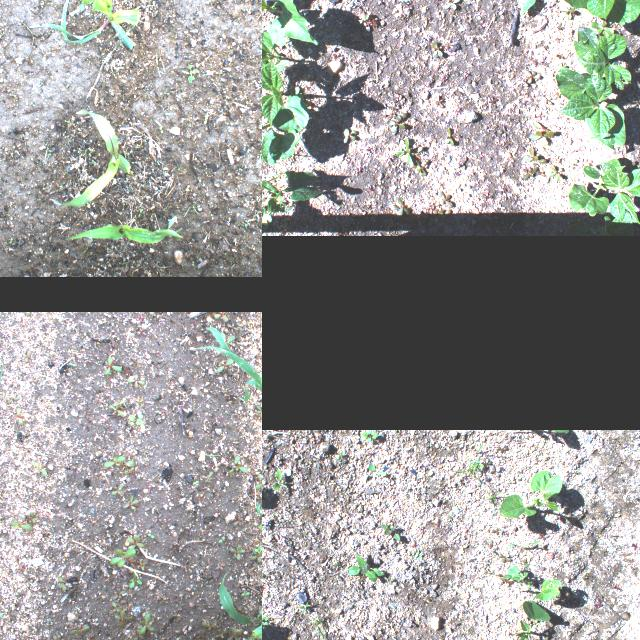crop: (193, 326, 262, 488), (51, 109, 131, 208), (557, 68, 627, 150), (29, 0, 139, 50), (569, 158, 640, 223), (65, 214, 182, 246), (262, 170, 322, 230), (572, 28, 630, 88), (262, 92, 309, 166), (218, 572, 262, 640), (500, 470, 562, 518), (262, 0, 316, 45), (550, 0, 640, 24), (505, 600, 551, 640), (262, 60, 284, 124), (262, 31, 276, 95), (601, 213, 633, 235), (553, 429, 569, 433)
weed: (503, 566, 561, 600), (452, 457, 488, 485), (348, 555, 384, 581), (109, 547, 141, 567), (395, 138, 415, 166), (222, 455, 248, 475), (308, 609, 324, 639), (485, 488, 507, 509), (388, 112, 406, 136), (520, 0, 553, 13), (390, 197, 410, 217), (217, 330, 237, 350), (10, 512, 32, 530), (103, 454, 135, 466), (115, 608, 134, 628), (103, 356, 123, 374), (354, 12, 370, 34), (524, 148, 546, 164), (139, 612, 155, 634), (590, 21, 614, 35), (121, 494, 139, 512), (272, 469, 288, 489), (530, 131, 556, 143), (186, 62, 200, 84), (510, 538, 540, 548), (126, 535, 144, 551), (381, 524, 399, 540), (556, 5, 576, 19), (126, 373, 146, 387), (439, 191, 453, 209), (522, 166, 540, 180), (216, 358, 234, 372), (224, 627, 243, 640), (12, 406, 24, 426), (129, 569, 141, 589), (29, 460, 46, 474), (438, 208, 452, 224), (548, 166, 564, 180), (128, 410, 144, 424), (361, 429, 379, 441), (368, 464, 386, 476), (249, 547, 262, 563), (70, 624, 90, 634), (413, 160, 427, 174), (344, 128, 356, 144), (526, 70, 542, 82), (108, 403, 124, 415), (110, 482, 126, 494), (439, 0, 460, 9), (22, 349, 34, 363), (214, 628, 228, 640), (297, 602, 311, 614), (477, 440, 491, 452), (563, 512, 577, 524), (433, 42, 443, 58), (542, 95, 558, 105), (201, 621, 217, 631), (213, 311, 229, 321), (254, 472, 262, 491), (202, 470, 214, 482), (131, 629, 144, 640), (434, 94, 444, 108), (57, 576, 67, 590), (112, 590, 125, 600), (447, 128, 455, 144), (130, 562, 140, 574), (111, 602, 123, 612), (226, 321, 238, 331), (410, 549, 422, 559), (499, 552, 511, 562), (6, 396, 20, 404), (532, 122, 550, 128), (255, 403, 262, 418), (111, 580, 121, 590), (196, 629, 206, 639), (231, 516, 241, 526), (336, 449, 346, 459), (488, 539, 498, 549), (30, 511, 38, 523), (114, 398, 126, 406), (138, 559, 146, 571), (228, 546, 236, 558), (230, 548, 246, 554), (262, 567, 268, 583), (0, 360, 4, 383), (1, 390, 10, 400), (234, 322, 243, 331), (570, 160, 578, 170), (136, 396, 144, 406), (159, 408, 169, 416), (154, 513, 162, 523), (134, 546, 144, 554), (157, 593, 166, 601), (214, 472, 223, 480), (491, 528, 503, 534), (262, 615, 268, 626), (113, 383, 121, 391), (120, 495, 128, 503), (136, 313, 144, 321), (218, 535, 226, 543), (254, 545, 262, 553), (248, 470, 256, 478), (124, 467, 134, 473), (240, 591, 250, 597), (238, 545, 242, 559), (52, 635, 62, 640), (242, 222, 250, 228), (140, 531, 146, 539), (386, 576, 394, 582), (259, 580, 262, 595), (148, 532, 154, 538), (68, 362, 76, 366), (192, 480, 200, 484), (0, 608, 3, 618), (206, 454, 220, 456), (24, 311, 30, 315), (27, 516, 31, 522), (156, 410, 162, 414), (148, 312, 154, 314)
